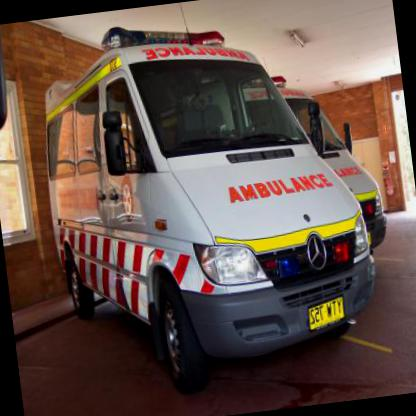truck: (25, 0, 390, 408), (168, 42, 392, 280)
